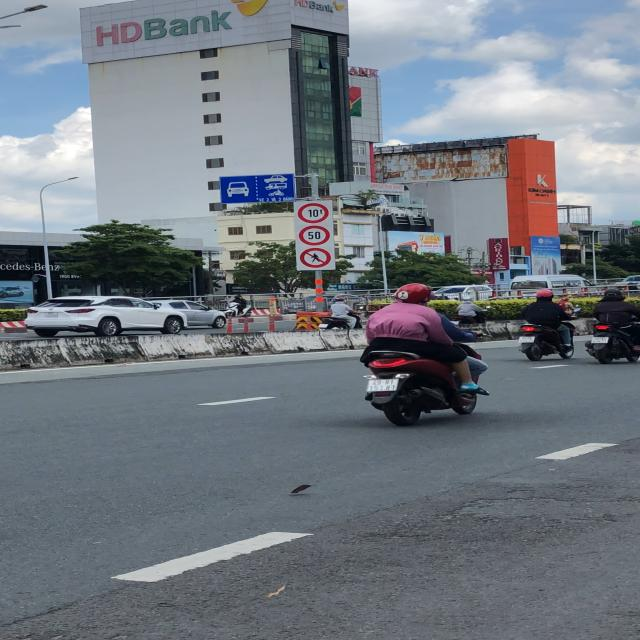Bien bao cam nguoi di bo: (297, 245, 340, 269)
Bien bao toc do toi da cho phep: (297, 224, 331, 247)
